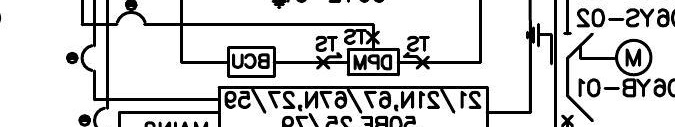115_3ways_ds_w_motor: (525, 22, 654, 77)
BCU: (226, 45, 277, 79)
DPM: (347, 47, 401, 77)
